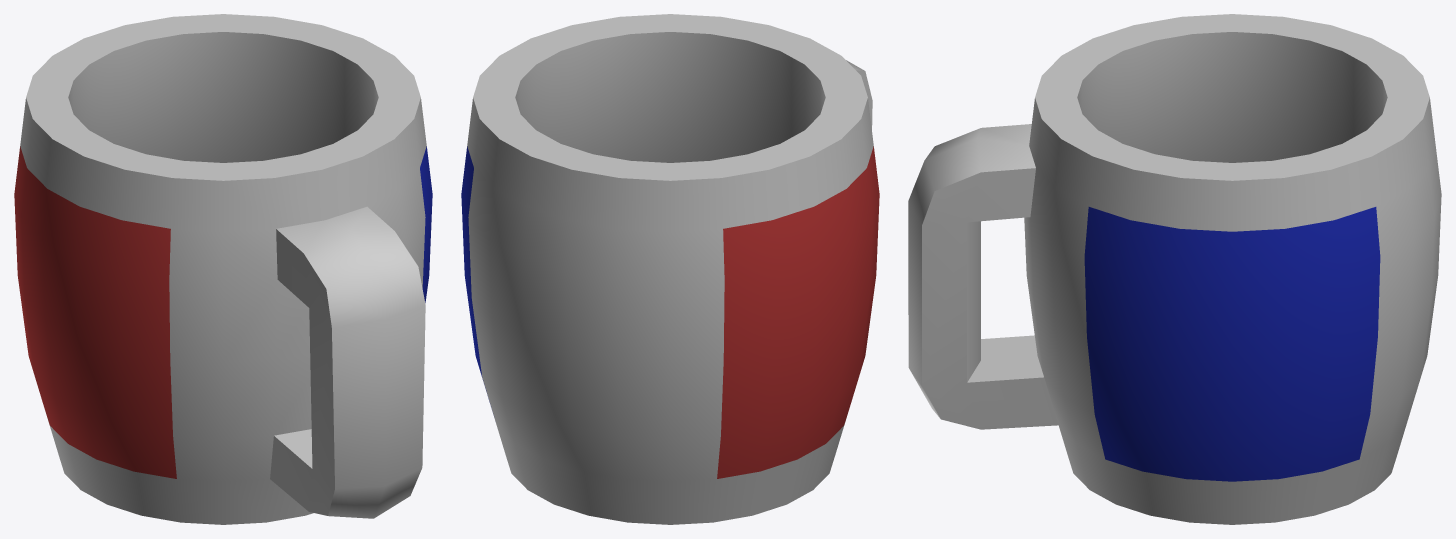
Rendered from Cup.fbx.
3 renders of one model, left to right at view 1: azimuth 30°, elevation 25°; view 2: azimuth 150°, elevation 25°; view 3: azimuth 270°, elevation 25°, orthographic.
Visible parts, largest first — view 1: Cup; view 2: Cup; view 3: Cup.
Boxes of the visible parts, x1=… form: Cup: x1=14, y1=14, x2=432, y2=524; Cup: x1=461, y1=14, x2=879, y2=524; Cup: x1=908, y1=14, x2=1441, y2=524.
Bounding box in the file's own units: 0.1185 × 0.1119 × 0.1511.
